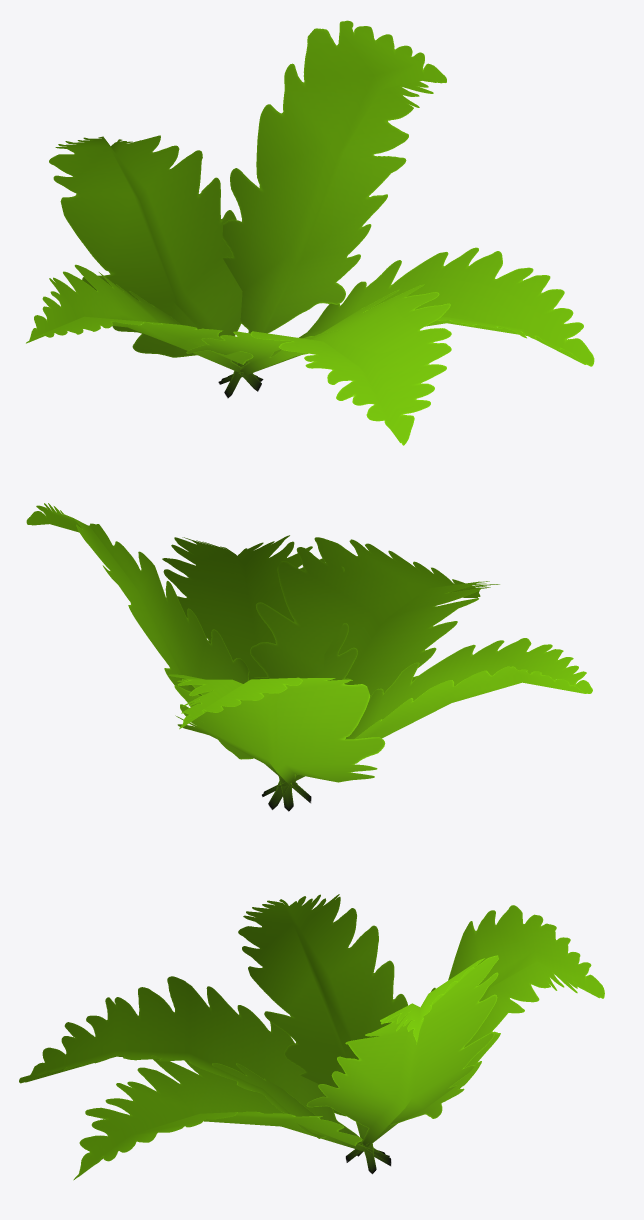
File: fern2_lod0_001.fbx
3 renders of one model, top to bottom at view 1: azimuth 30°, elevation 25°; view 2: azimuth 150°, elevation 25°; view 3: azimuth 270°, elevation 25°, orthographic. The views are drawn at different scales.
Visible parts, largest first — view 1: fern2_lod0.001; view 2: fern2_lod0.001; view 3: fern2_lod0.001.
Boxes of the visible parts, x1=… form: fern2_lod0.001: x1=26, y1=20, x2=594, y2=445; fern2_lod0.001: x1=26, y1=503, x2=592, y2=811; fern2_lod0.001: x1=19, y1=894, x2=604, y2=1180.
Bounding box in the file's own units: 303 × 161 × 307.
